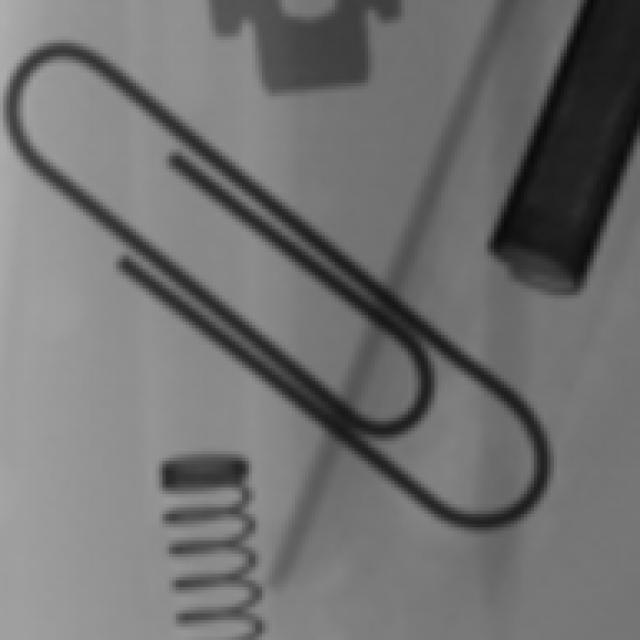BLADE: (233, 1, 382, 99)
